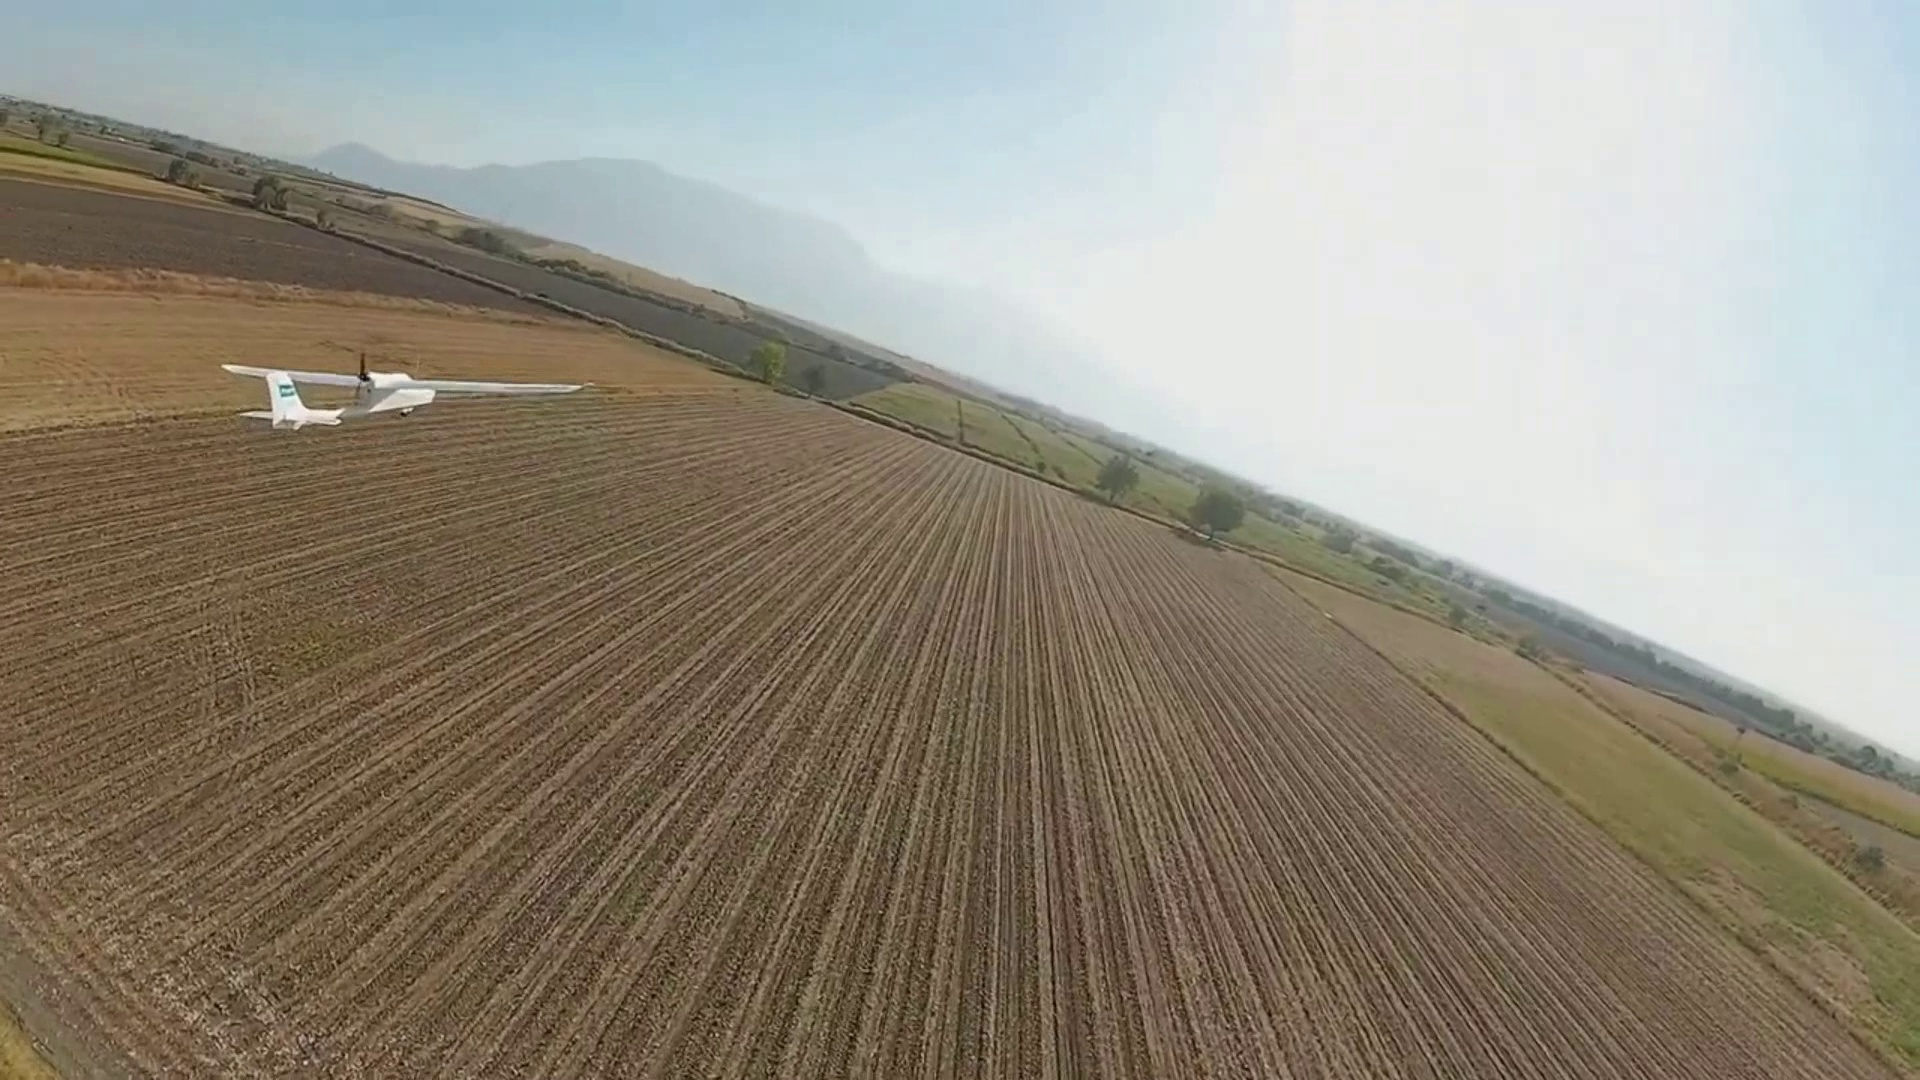airplane: (218, 360, 582, 425), (220, 360, 440, 429)
